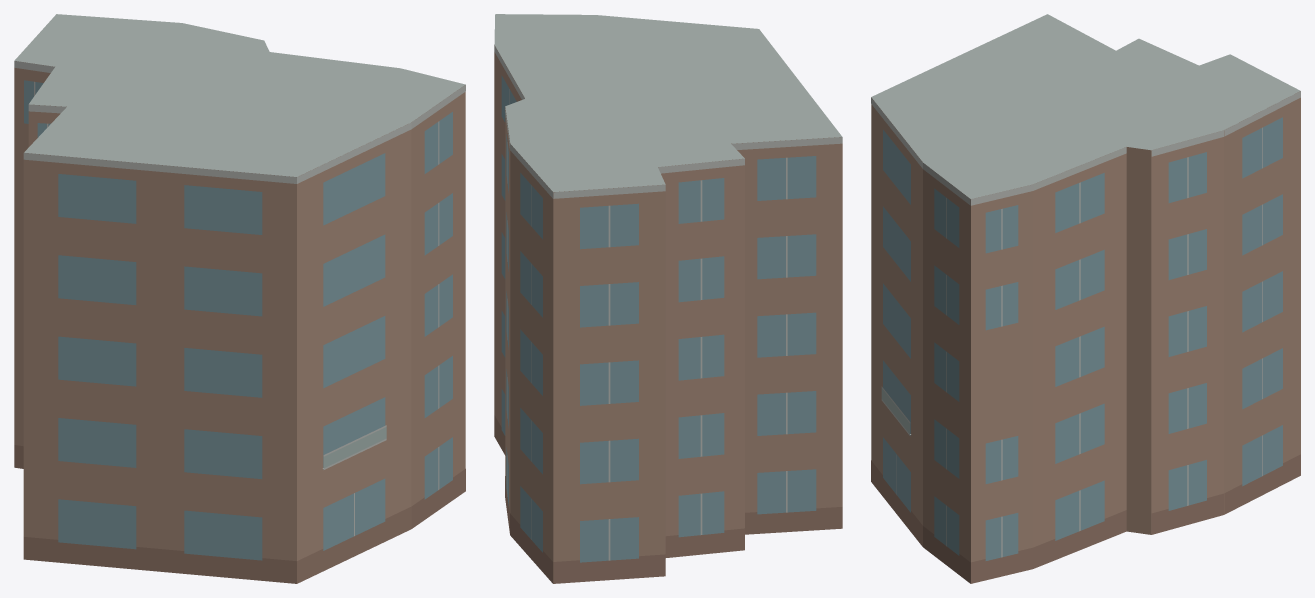
Rendered from survey-upis-32862247.glb.
3 views of the same model, side by side, from view 1: azimuth 30°, elevation 25°; view 2: azimuth 150°, elevation 25°; view 3: azimuth 270°, elevation 25° (orthographic). The views are drawn at different scales.
Visible parts, largest first — view 1: survey-upis-32862247.tmp; view 2: survey-upis-32862247.tmp; view 3: survey-upis-32862247.tmp.
Boxes of the visible parts, box(x1,y1,x2,y2) form: survey-upis-32862247.tmp: box(14, 14, 465, 583); survey-upis-32862247.tmp: box(494, 14, 842, 583); survey-upis-32862247.tmp: box(871, 14, 1300, 583).
Bounding box in the file's own units: 14.67 × 14.2 × 14.39.
